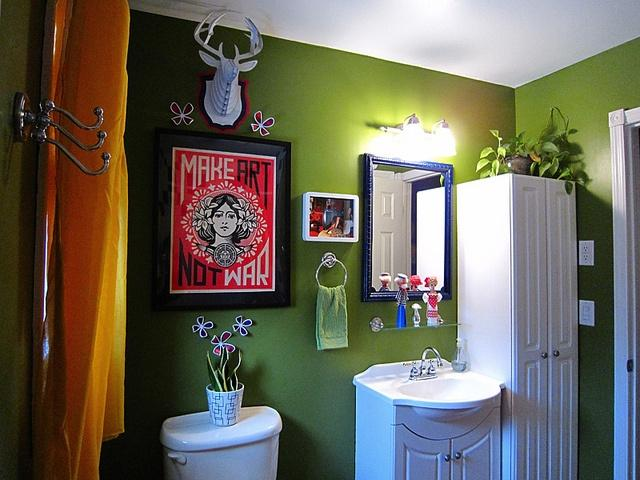Lemari: (509, 172, 578, 479), (393, 403, 500, 479)
